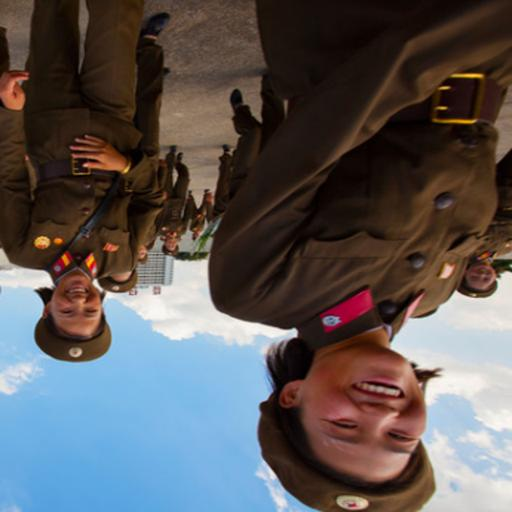north army: (204, 5, 512, 512), (4, 4, 201, 366)
